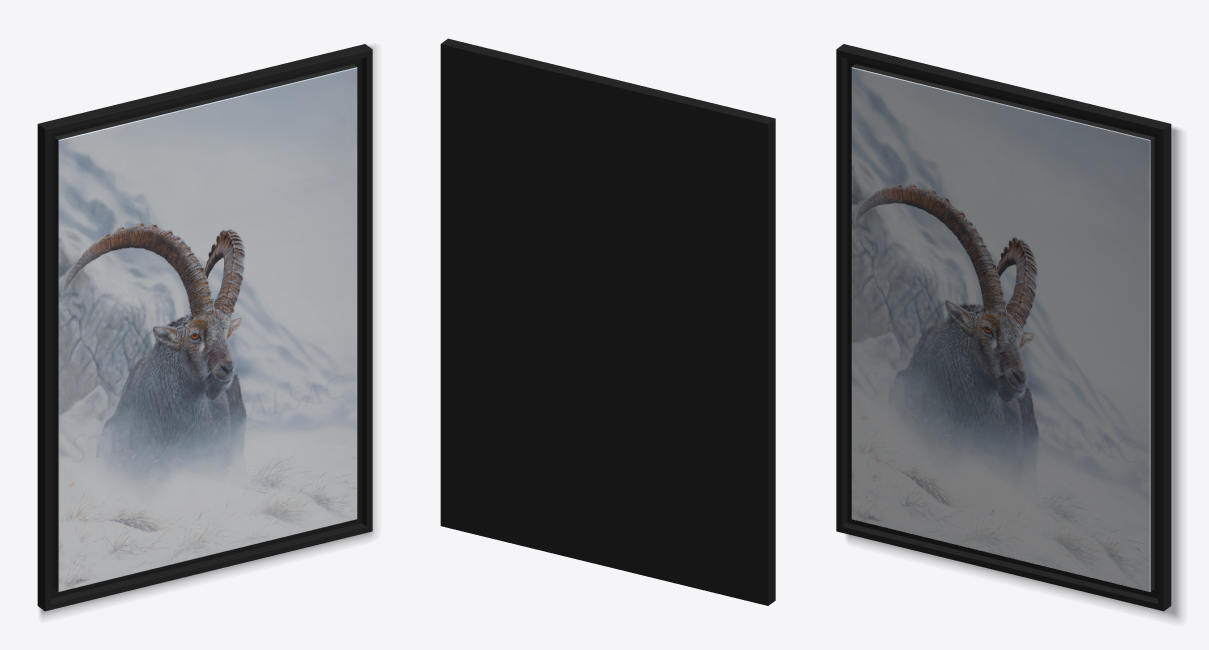
File: tableau-peinture-ibex-grand-f4ba2e88.glb
The picture shows the model from 3 angles, left to right: view 1: azimuth 30°, elevation 25°; view 2: azimuth 150°, elevation 25°; view 3: azimuth 330°, elevation 25°; orthographic projection.
Visible parts, largest first — view 1: Painting; view 2: Painting; view 3: Painting.
Part boxes in pixels (bbox=[...]): Painting: bbox=[37, 44, 374, 616]; Painting: bbox=[440, 38, 775, 605]; Painting: bbox=[836, 44, 1180, 619].
Bounding box in the file's own units: 1.13 × 1.53 × 0.04.
5 materials, 3 textured.
